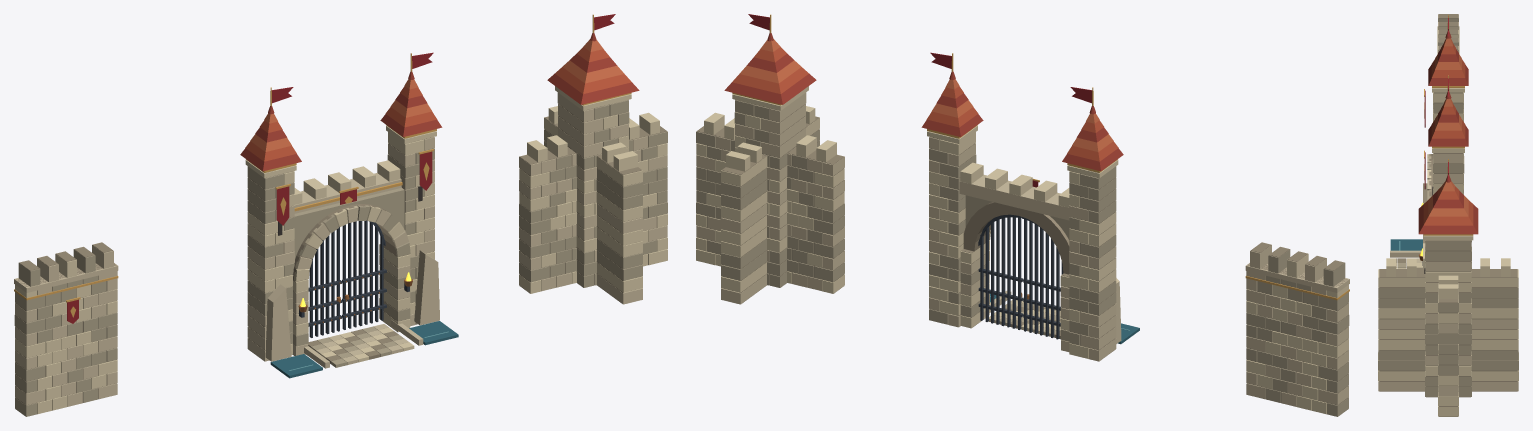
The model's file is muralhas-nivel-8.glb.
3 renders of one model, left to right at view 1: azimuth 30°, elevation 25°; view 2: azimuth 150°, elevation 25°; view 3: azimuth 270°, elevation 25°, orthographic. The views are drawn at different scales.
Visible parts, largest first — view 1: gate_8_cfc1a3, tower_8_ded0ad, tower_8_b4a98f, gate_8_ded0ad, gate_8_b4a98f, tower_8_cfc1a3, wall_8_b4a98f, wall_8_cfc1a3, wall_8_ded0ad, right_8_3a424d, left_8_3a424d, gate_8_9a8d77 (+11 smaller); view 2: tower_8_ded0ad, tower_8_b4a98f, gate_8_ded0ad, gate_8_b4a98f, tower_8_cfc1a3, gate_8_cfc1a3, wall_8_b4a98f, wall_8_cfc1a3, wall_8_ded0ad, right_8_3a424d, gate_8_9a8d77, left_8_3a424d (+8 smaller); view 3: tower_8_ded0ad, tower_8_b4a98f, tower_8_cfc1a3, tower_8_9a8d77, gate_8_9e4235, tower_8_9e4235, gate_8_cfc1a3, gate_8_b9583c, tower_8_b9583c, gate_8_ded0ad, gate_8_c66c49, gate_8_b4a98f (+7 smaller).
Boxes of the visible parts, left/top/right/bottom form: gate_8_cfc1a3: left=247, top=131, right=439, bottom=368; tower_8_ded0ad: left=519, top=86, right=667, bottom=293; tower_8_b4a98f: left=519, top=100, right=667, bottom=287; gate_8_ded0ad: left=245, top=125, right=436, bottom=362; gate_8_b4a98f: left=247, top=136, right=434, bottom=367; tower_8_cfc1a3: left=519, top=92, right=667, bottom=304; wall_8_b4a98f: left=14, top=246, right=117, bottom=416; wall_8_cfc1a3: left=14, top=242, right=118, bottom=406; wall_8_ded0ad: left=15, top=251, right=117, bottom=414; right_8_3a424d: left=342, top=220, right=386, bottom=329; left_8_3a424d: left=308, top=227, right=342, bottom=337; gate_8_9a8d77: left=248, top=137, right=433, bottom=363; tower_8_ded0ad: left=696, top=86, right=844, bottom=293; tower_8_b4a98f: left=696, top=100, right=844, bottom=287; gate_8_ded0ad: left=927, top=125, right=1118, bottom=358; gate_8_b4a98f: left=929, top=136, right=1116, bottom=345; tower_8_cfc1a3: left=696, top=92, right=844, bottom=304; gate_8_cfc1a3: left=929, top=131, right=1121, bottom=361; wall_8_b4a98f: left=1246, top=246, right=1349, bottom=416; wall_8_cfc1a3: left=1245, top=242, right=1349, bottom=406; wall_8_ded0ad: left=1246, top=251, right=1348, bottom=414; right_8_3a424d: left=978, top=214, right=1023, bottom=329; gate_8_9a8d77: left=930, top=137, right=1115, bottom=361; left_8_3a424d: left=1022, top=217, right=1063, bottom=339; tower_8_ded0ad: left=1378, top=235, right=1518, bottom=416; tower_8_b4a98f: left=1378, top=240, right=1518, bottom=396; tower_8_cfc1a3: left=1378, top=261, right=1518, bottom=395; tower_8_9a8d77: left=1379, top=240, right=1517, bottom=416; gate_8_9e4235: left=1428, top=31, right=1468, bottom=146; tower_8_9e4235: left=1418, top=175, right=1478, bottom=234; gate_8_cfc1a3: left=1390, top=148, right=1464, bottom=268; gate_8_b9583c: left=1431, top=43, right=1465, bottom=138; tower_8_b9583c: left=1423, top=186, right=1473, bottom=225; gate_8_ded0ad: left=1396, top=88, right=1464, bottom=268; gate_8_c66c49: left=1435, top=38, right=1461, bottom=130; gate_8_b4a98f: left=1396, top=102, right=1463, bottom=268.
Size of the model in its own units: 27.99 by 11.02 by 6.03.
